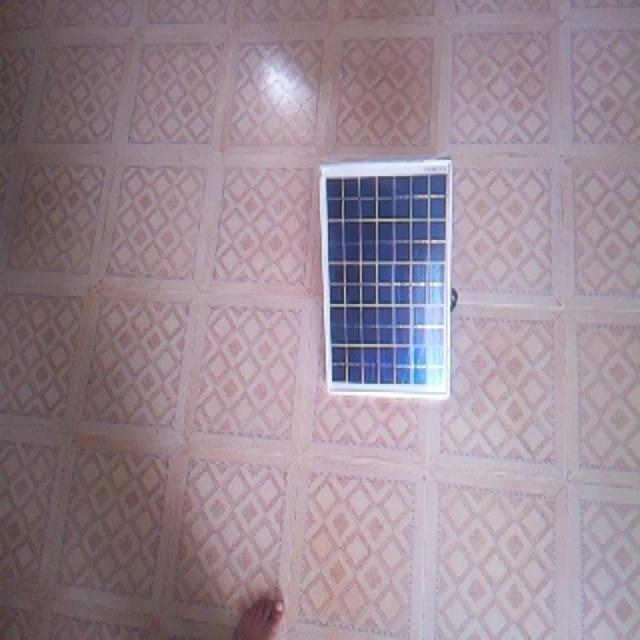Normal Solar Panel: (322, 161, 452, 397)
